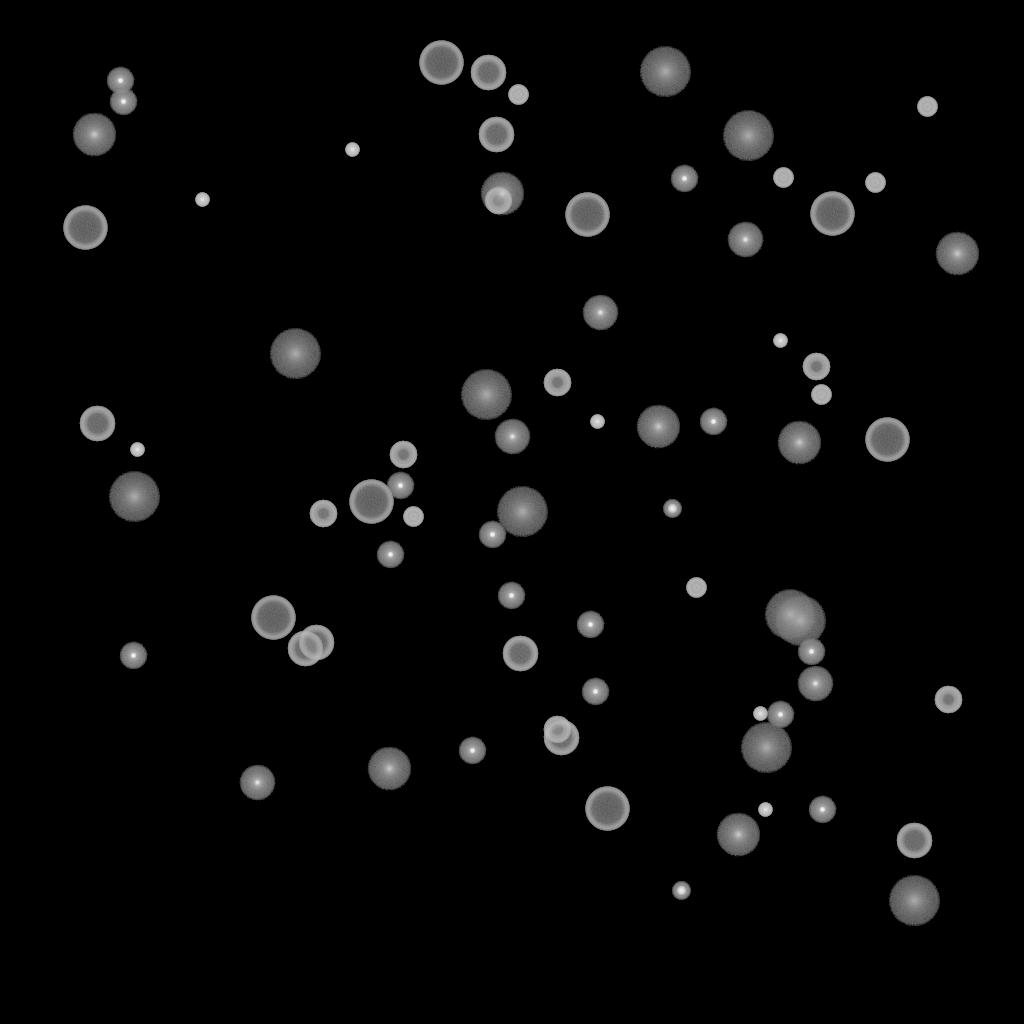depth:-10: (386, 472, 414, 500), (581, 678, 609, 706), (478, 521, 506, 549), (458, 737, 486, 765), (808, 796, 836, 824), (109, 88, 137, 116), (106, 67, 134, 95), (670, 165, 698, 193), (497, 582, 525, 610), (766, 701, 794, 729), (119, 642, 147, 670), (376, 541, 404, 569), (576, 611, 604, 639), (699, 408, 727, 436), (797, 638, 825, 666)
depth:-20: (672, 882, 690, 900), (663, 500, 681, 518)
depth:-30: (130, 443, 144, 457), (590, 415, 604, 429), (345, 143, 359, 157), (195, 193, 209, 207), (773, 334, 787, 348), (753, 707, 767, 721), (758, 803, 772, 817)
depth:-40: (865, 173, 885, 193), (508, 85, 528, 105), (811, 385, 831, 405), (917, 97, 937, 117), (686, 578, 706, 598), (403, 507, 423, 527), (773, 168, 793, 188)
depth:-50: (309, 500, 337, 528), (543, 369, 571, 397), (389, 441, 417, 469), (543, 716, 571, 744), (802, 353, 830, 381), (484, 187, 512, 215), (934, 686, 962, 714)
depth:-60: (79, 406, 115, 442), (478, 117, 514, 153), (896, 823, 932, 859), (470, 55, 506, 91), (502, 636, 538, 672), (543, 720, 579, 756), (298, 625, 334, 661), (287, 631, 323, 667)
depth:-70: (251, 596, 295, 640), (585, 787, 629, 831), (865, 418, 909, 462), (565, 193, 609, 237), (810, 192, 854, 236), (419, 41, 463, 85), (63, 206, 107, 250), (349, 480, 393, 524)
depth:0: (494, 419, 530, 455), (239, 765, 275, 801), (727, 222, 763, 258), (797, 666, 833, 702), (582, 295, 618, 331)
depth:10: (480, 172, 524, 216), (367, 747, 411, 791), (72, 113, 116, 157), (935, 232, 979, 276), (777, 421, 821, 465), (636, 405, 680, 449), (716, 813, 760, 857)
depth:20: (888, 876, 940, 926), (774, 596, 826, 646), (496, 487, 548, 537), (639, 47, 691, 97), (460, 370, 512, 420), (108, 472, 160, 522), (764, 590, 816, 640), (740, 723, 792, 773), (722, 111, 774, 161), (269, 329, 321, 379)
